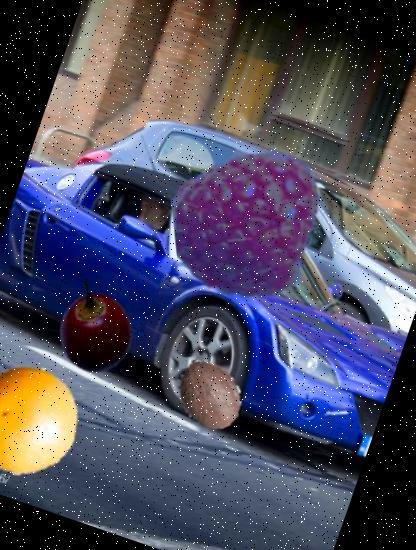Carambula: (0, 383, 42, 477)
Cocos: (163, 348, 256, 441)
Grapefruit: (0, 350, 94, 491)
Raspberry: (154, 130, 345, 321)
Tamarillo: (38, 275, 148, 384)
